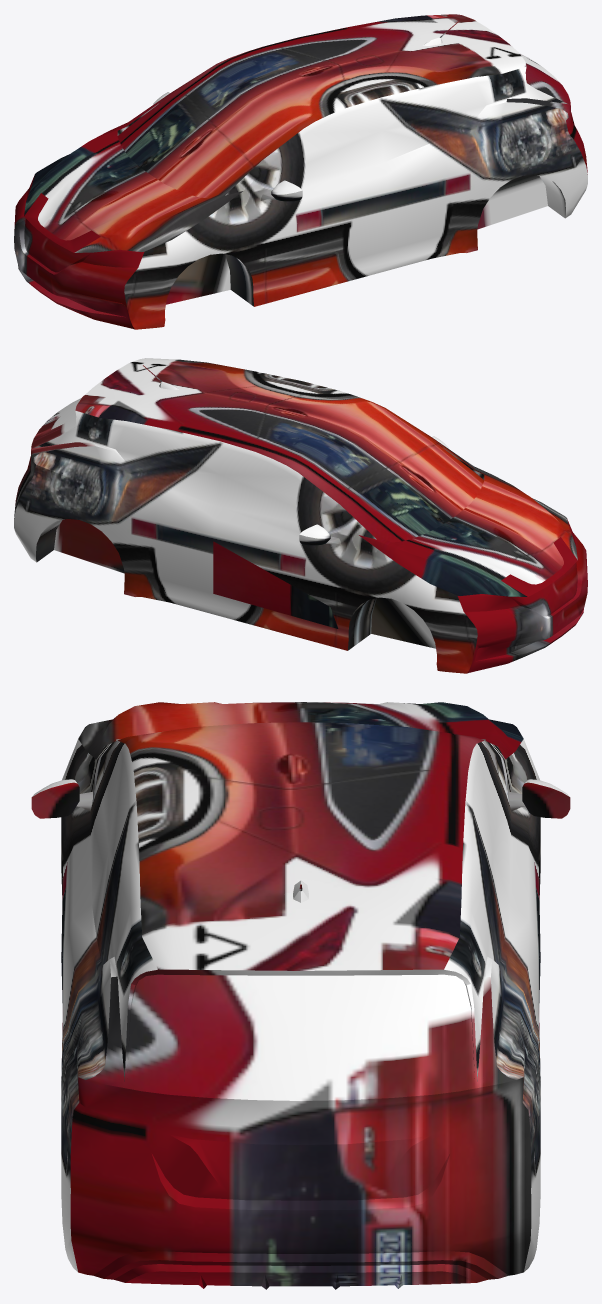
File: Car04.fbx
The picture shows the model from 3 angles, top to bottom: view 1: azimuth 30°, elevation 25°; view 2: azimuth 150°, elevation 25°; view 3: azimuth 270°, elevation 25°; orthographic projection. The views are drawn at different scales.
Visible parts, largest first — view 1: model3:Object_TexMap_0; view 2: model3:Object_TexMap_0; view 3: model3:Object_TexMap_0.
Part boxes in pixels (x1=…): model3:Object_TexMap_0: x1=14, y1=14, x2=587, y2=329; model3:Object_TexMap_0: x1=14, y1=358, x2=587, y2=673; model3:Object_TexMap_0: x1=31, y1=702, x2=570, y2=1286.
Size of the model in its own units: 2.5 by 0.8255 by 1.13.
